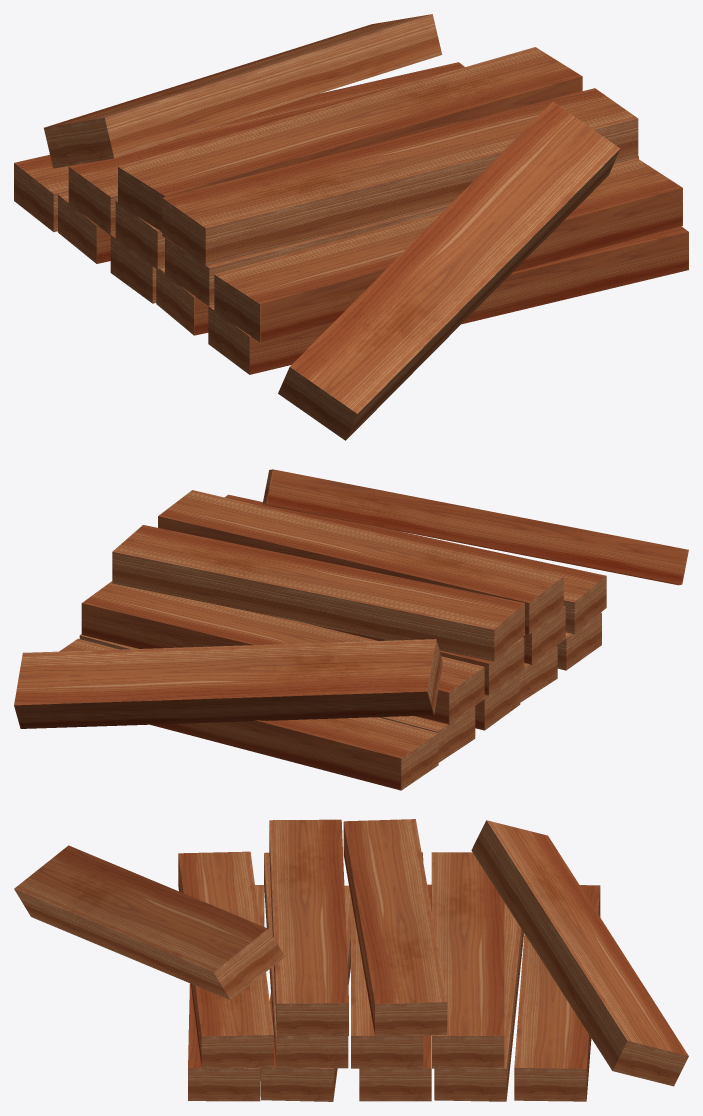
Rendered from plankPile3.fbx.
The picture shows the model from 3 angles, top to bottom: view 1: azimuth 30°, elevation 25°; view 2: azimuth 150°, elevation 25°; view 3: azimuth 270°, elevation 25°; orthographic projection. The views are drawn at different scales.
Visible parts, largest first — view 1: plank13; view 2: plank13; view 3: plank13.
Boxes of the visible parts, <box> form: plank13: <box>14,14,688,440</box>; plank13: <box>14,469,688,790</box>; plank13: <box>14,819,688,1101</box>.
Size of the model in its own units: 25.97 by 8.21 by 37.29.
Materials: 1 (1 with a texture image).
